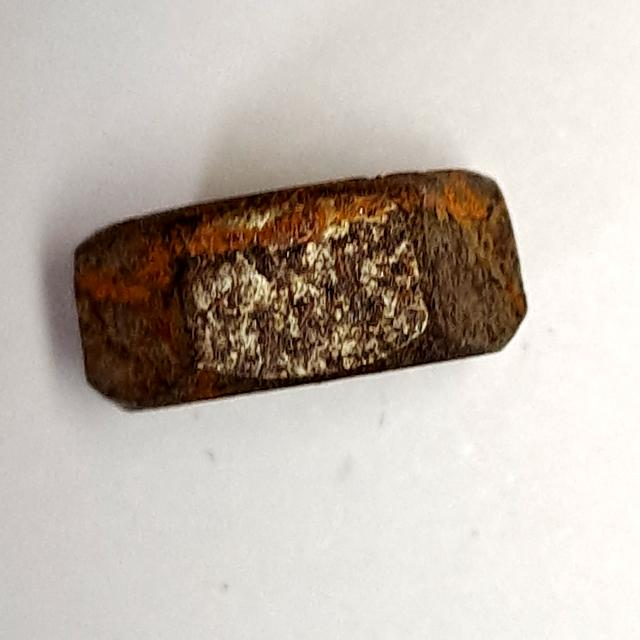Side_Rust: (57, 152, 541, 426)
